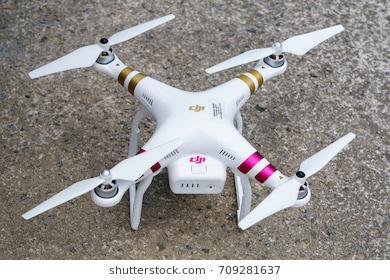drone: (20, 13, 357, 230)
